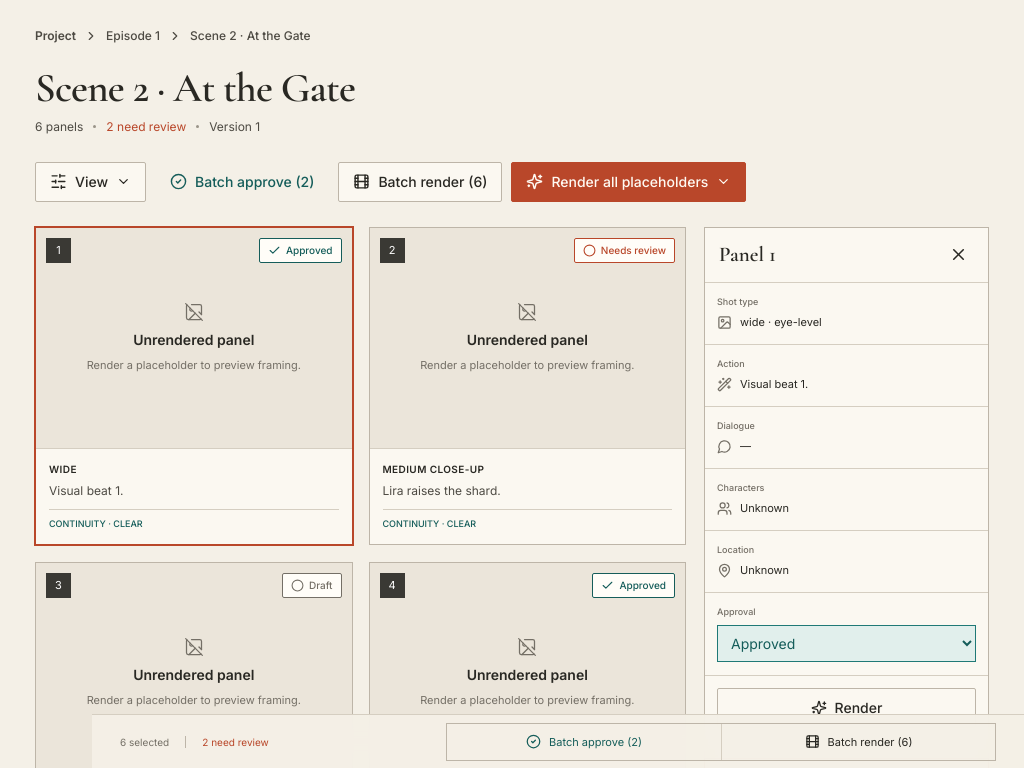
Scenario: renders the balanced board and opens the selected panel inspector
Expected: the heading "Scene 2 · At the Gate" is shown, [35, 68, 355, 109]
Click the button with aria-label "Select panel 2": (527, 386) [370, 228, 685, 544]
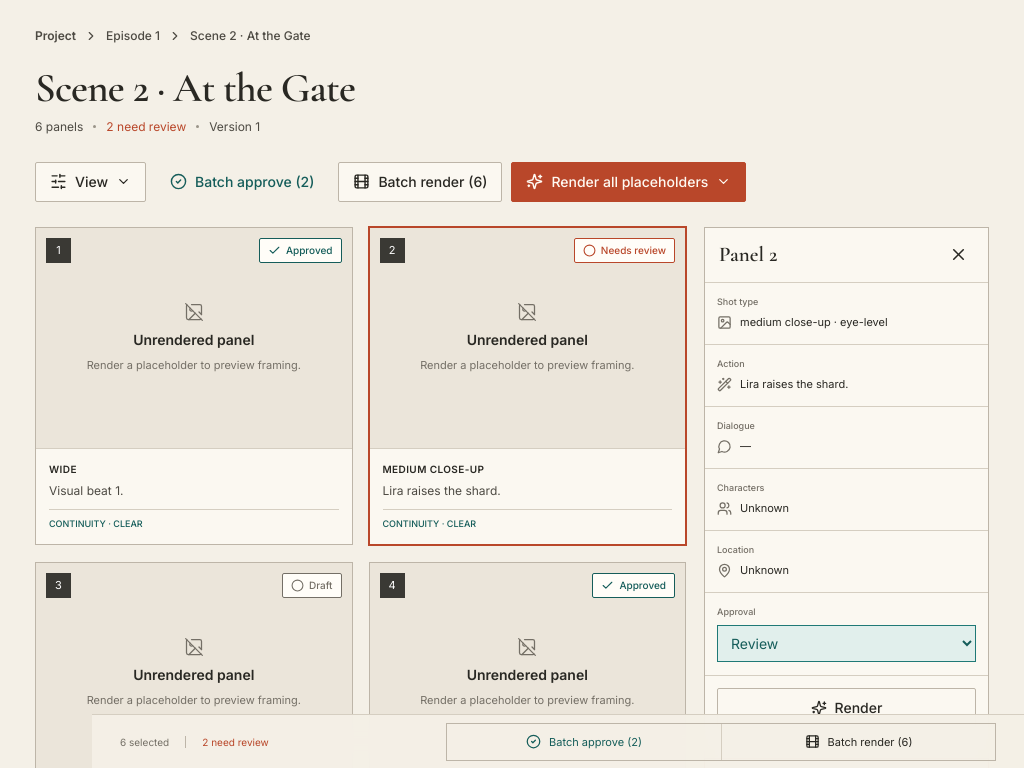
Expected: the text "Lira raises the shard." is shown 2 times, [382, 483, 501, 498]; [740, 377, 848, 393]
Expected: the heading "Panel 2" is shown, [719, 242, 777, 268]
